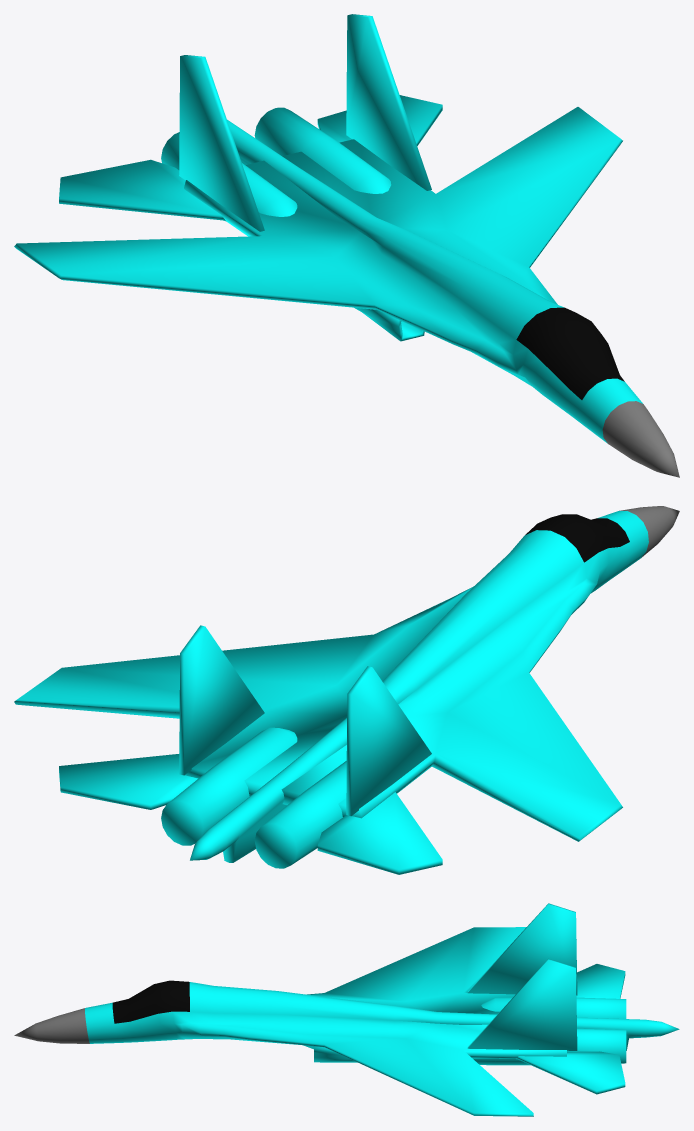
File: sukhoi35.fbx
The picture shows the model from 3 angles, top to bottom: view 1: azimuth 30°, elevation 25°; view 2: azimuth 150°, elevation 25°; view 3: azimuth 270°, elevation 25°; orthographic projection. The views are drawn at different scales.
Visible parts, largest first — view 1: sukhoi35; view 2: sukhoi35; view 3: sukhoi35.
Boxes of the visible parts, x1,y1,x2,y2 form: sukhoi35: (14, 14, 679, 477); sukhoi35: (14, 506, 679, 874); sukhoi35: (14, 903, 679, 1116).
Bounding box in the file's own units: 1102 × 341 × 1651.
